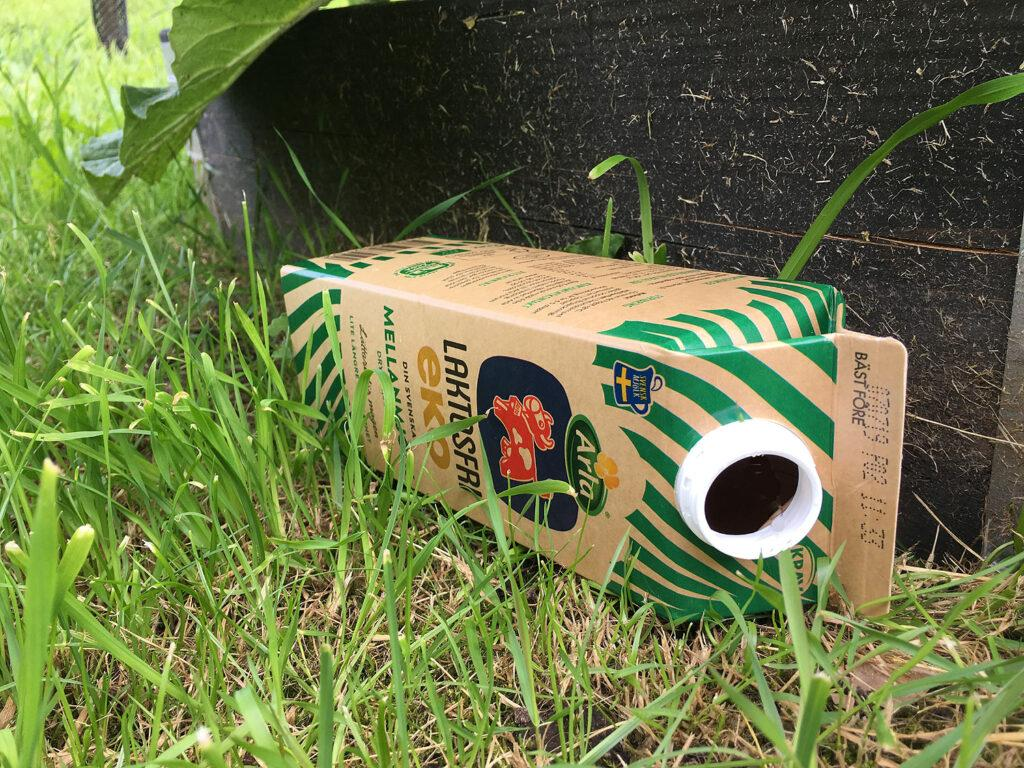paper: (145, 238, 905, 756)
